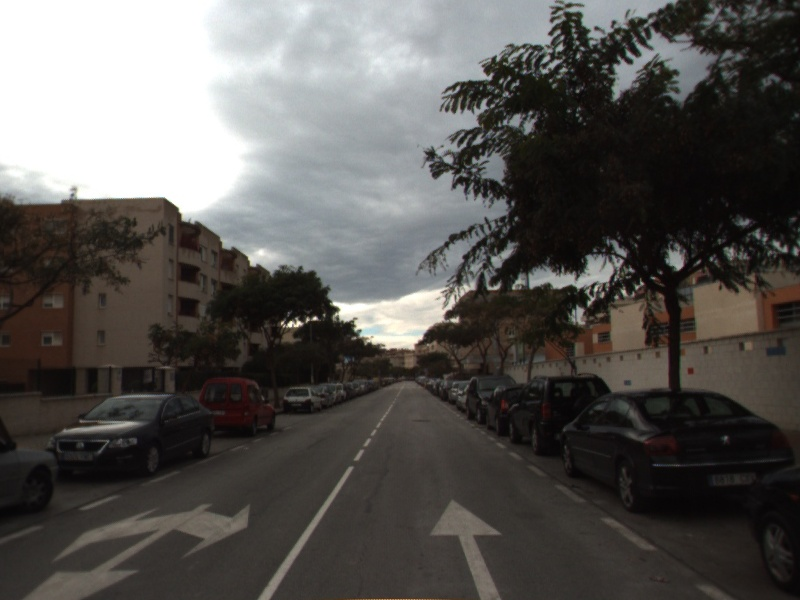STRAIGHT: (427, 495, 506, 600)
